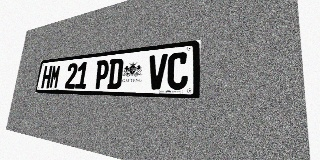1: (75, 62, 89, 89)
2: (65, 63, 78, 89)
C: (166, 51, 189, 90)
D: (107, 58, 124, 89)
H: (41, 65, 53, 88)
M: (49, 64, 61, 88)
P: (94, 59, 110, 89)
V: (147, 54, 168, 89)
